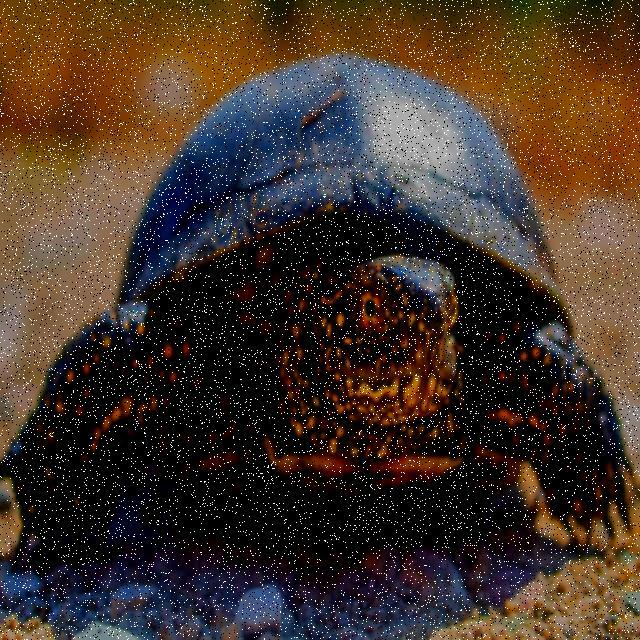tortoise: (12, 46, 640, 574)
